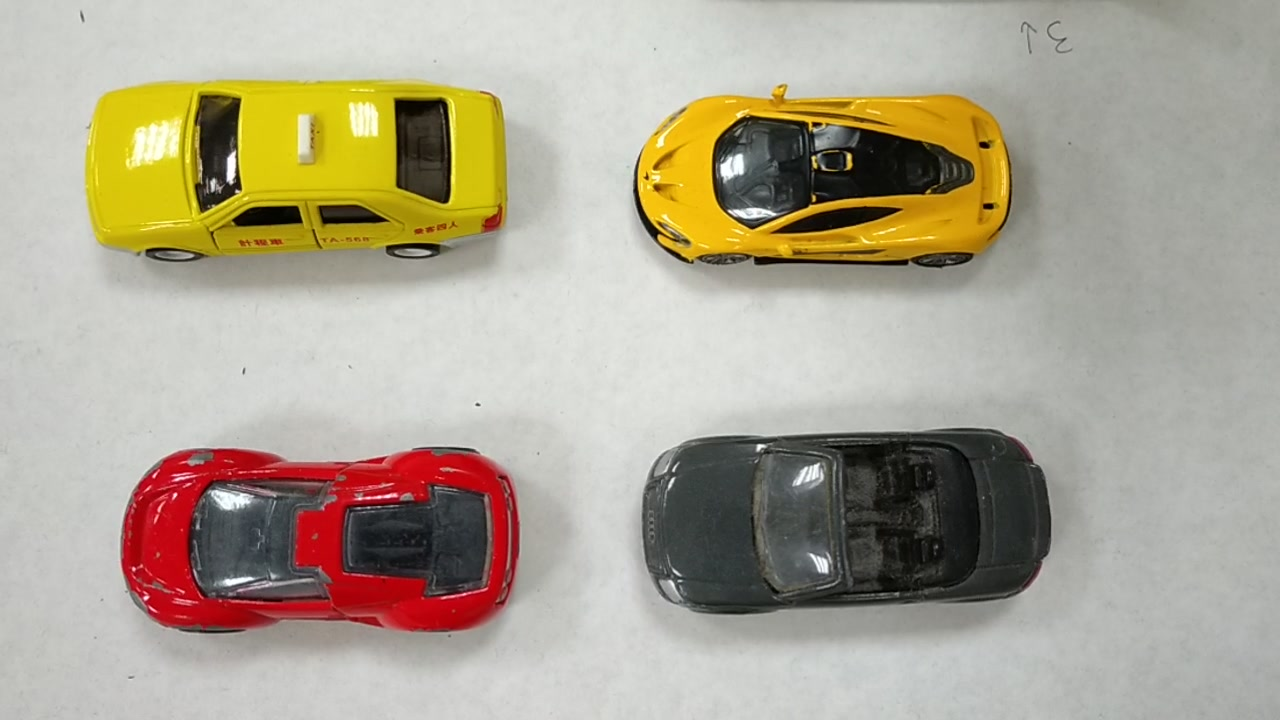car: (641, 434, 1057, 624), (627, 86, 1015, 273), (121, 456, 524, 632), (81, 84, 512, 244)
